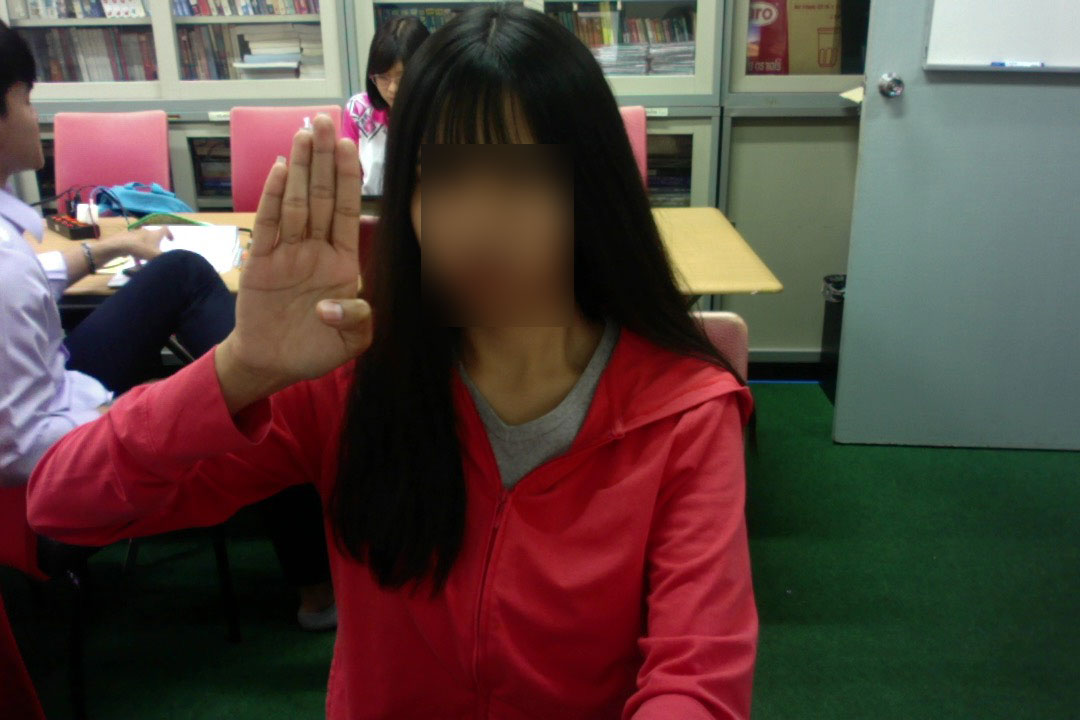bor: (227, 104, 376, 400)
